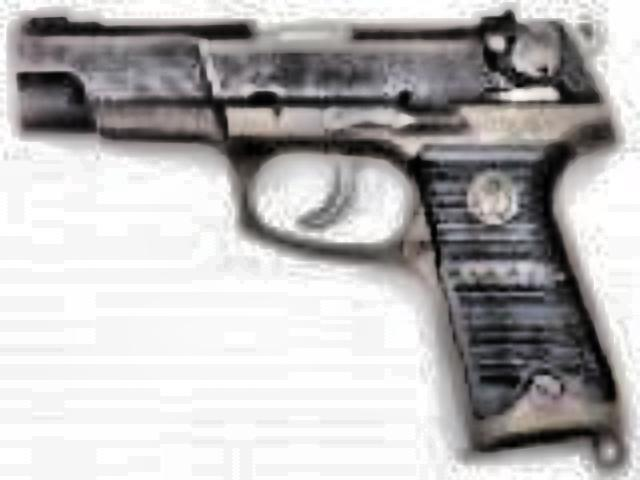pistol: (8, 4, 612, 448)
